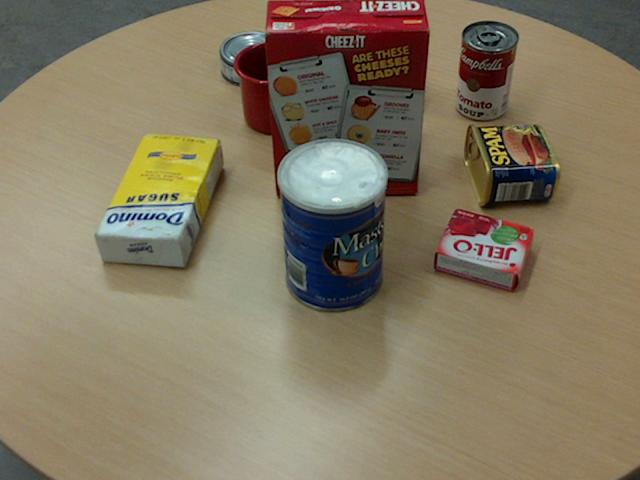cracker_box: (262, 0, 429, 195)
gelatin_box: (434, 207, 535, 290)
large_marker: (404, 47, 425, 138)
master_chef_can: (276, 138, 386, 312)
mug: (232, 41, 317, 133)
mustard_bottle: (291, 8, 423, 95)
potted_meat_can: (463, 123, 559, 206)
sugar_box: (93, 132, 221, 266)
tomato_soup_can: (455, 20, 518, 119)
tuna_fish_can: (218, 30, 283, 85)
